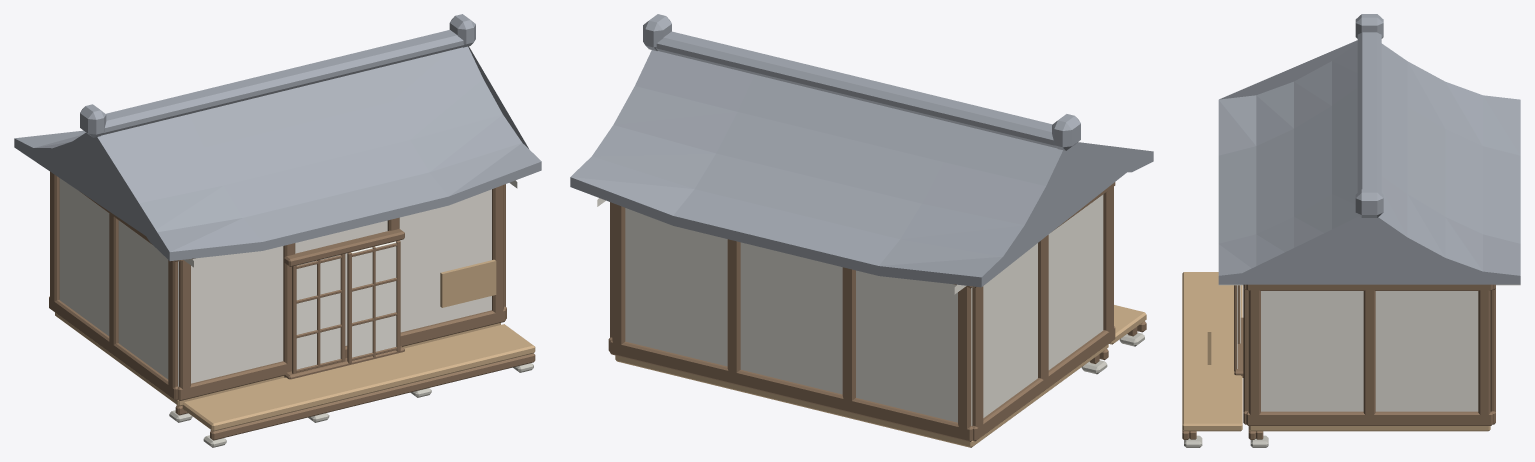
File: scribe-school.glb
3 views of the same model, side by side, from view 1: azimuth 30°, elevation 25°; view 2: azimuth 150°, elevation 25°; view 3: azimuth 270°, elevation 25° (orthographic). The views are drawn at different scales.
Parts seen in each view (by area): view 1: scribe-school; view 2: scribe-school; view 3: scribe-school.
Part boxes in pixels (box(x1,y1,x2,y2)): scribe-school: box(14, 14, 541, 447); scribe-school: box(570, 14, 1153, 447); scribe-school: box(1182, 14, 1520, 447).
Bounding box in the file's own units: 7.2 × 4.91 × 5.6.
